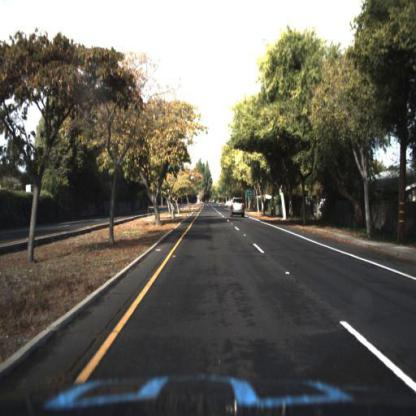car: (230, 196, 248, 220)
